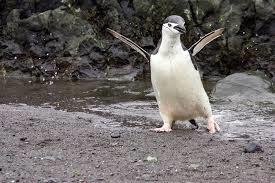chinstrap: (105, 10, 239, 147)
